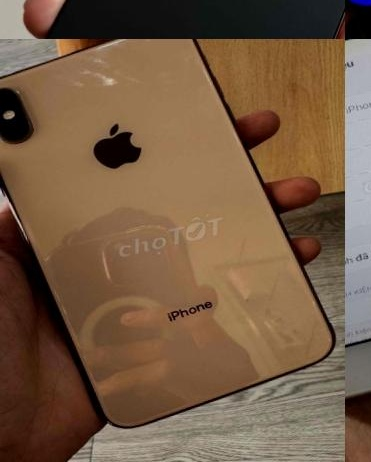scratch: (237, 287, 266, 315)
